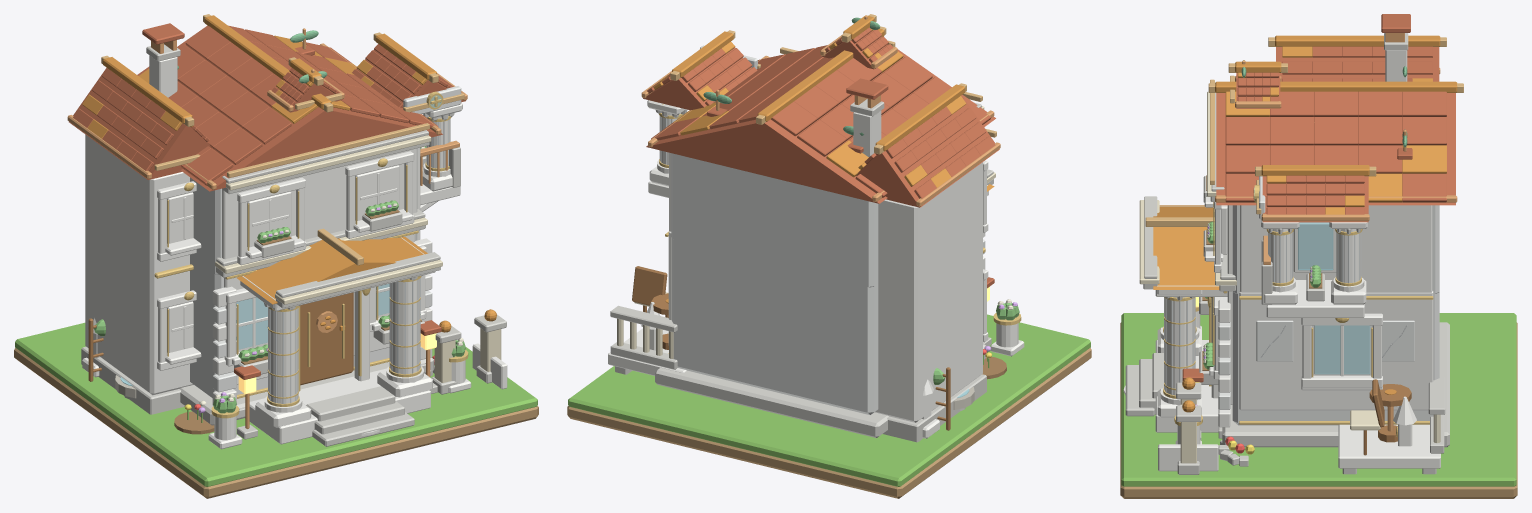
Rendered from villa_l05_active_LOD0.glb.
3 views of the same model, side by side, from view 1: azimuth 30°, elevation 25°; view 2: azimuth 150°, elevation 25°; view 3: azimuth 270°, elevation 25° (orthographic). The views are drawn at different scales.
Visible parts, largest first — view 1: villa_l05_active_left_pavilion_shell, villa_grass_tile, villa_earth_tile, villa_l05_active_full_upper_gable_roof, villa_l05_active_wide_portico_roof_gable_roof, villa_l05_active_upper_front_cladding, villa_l01_active_v2_entry_door, villa_l01_active_v2_marble_core, villa_l05_active_wide_porch, villa_l05_active_left_pavilion_roof_gable_roof, villa_l05_active_wide_column_-1_shaft, villa_l05_active_wide_column_1_shaft (+49 smaller); view 2: villa_l01_active_v2_marble_core, villa_grass_tile, villa_l05_active_left_pavilion_shell, villa_l05_active_full_upper_shell, villa_l05_active_full_upper_gable_roof, villa_earth_tile, villa_l01_active_v2_base_stone_block_low_medium_foundation, villa_l05_active_left_pavilion_roof_gable_roof, villa_l05_active_left_pavilion_foundation, villa_l05_active_balcony_gable_gable_roof, villa_l05_active_full_upper_gold_ridge, villa_l05_active_left_pavilion_roof_gold_ridge (+18 smaller); view 3: villa_grass_tile, villa_l01_active_v2_right_marble_cladding, villa_l05_active_upper_right_cladding, villa_earth_tile, villa_l05_active_wide_portico_roof_gable_roof, villa_l01_active_v2_base_stone_block_low_medium_foundation, villa_l05_active_terrace_deck, villa_l01_active_v2_marble_core, villa_l01_active_v2_side_window_frame, villa_l01_active_v2_side_window_glass, villa_l05_active_full_upper_gable_roof, villa_l05_active_full_upper_gold_ridge (+58 smaller).
Boxes of the visible parts, x1,y1,x2,y2 form: villa_l05_active_left_pavilion_shell: [85, 134, 193, 395]; villa_grass_tile: [15, 322, 537, 486]; villa_earth_tile: [14, 348, 538, 498]; villa_l05_active_full_upper_gable_roof: [137, 25, 442, 191]; villa_l05_active_wide_portico_roof_gable_roof: [237, 236, 427, 304]; villa_l05_active_upper_front_cladding: [222, 148, 417, 259]; villa_l01_active_v2_entry_door: [300, 292, 353, 385]; villa_l01_active_v2_marble_core: [190, 233, 417, 397]; villa_l05_active_wide_porch: [249, 368, 430, 444]; villa_l05_active_left_pavilion_roof_gable_roof: [69, 67, 211, 179]; villa_l05_active_wide_column_-1_shaft: [268, 308, 298, 403]; villa_l05_active_wide_column_1_shaft: [390, 278, 419, 374]; villa_l01_active_v2_marble_core: [672, 236, 878, 414]; villa_grass_tile: [568, 314, 1090, 486]; villa_l05_active_left_pavilion_shell: [875, 162, 982, 422]; villa_l05_active_full_upper_shell: [671, 153, 878, 287]; villa_l05_active_full_upper_gable_roof: [646, 49, 995, 203]; villa_earth_tile: [567, 348, 1091, 498]; villa_l01_active_v2_base_stone_block_low_medium_foundation: [655, 344, 986, 437]; villa_l05_active_left_pavilion_roof_gable_roof: [856, 95, 999, 207]; villa_l05_active_left_pavilion_foundation: [883, 374, 986, 442]; villa_l05_active_balcony_gable_gable_roof: [643, 47, 751, 110]; villa_l05_active_full_upper_gold_ridge: [757, 28, 884, 121]; villa_l05_active_left_pavilion_roof_gold_ridge: [875, 84, 965, 151]; villa_grass_tile: [1121, 313, 1516, 486]; villa_l01_active_v2_right_marble_cladding: [1239, 291, 1433, 410]; villa_l05_active_upper_right_cladding: [1240, 205, 1432, 292]; villa_earth_tile: [1120, 322, 1517, 498]; villa_l05_active_wide_portico_roof_gable_roof: [1153, 205, 1219, 289]; villa_l01_active_v2_base_stone_block_low_medium_foundation: [1222, 322, 1449, 447]; villa_l05_active_terrace_deck: [1338, 424, 1440, 468]; villa_l01_active_v2_marble_core: [1232, 290, 1439, 425]; villa_l01_active_v2_side_window_frame: [1312, 325, 1372, 375]; villa_l01_active_v2_side_window_glass: [1314, 325, 1370, 374]; villa_l05_active_full_upper_gable_roof: [1216, 93, 1455, 205]; villa_l05_active_full_upper_gold_ridge: [1215, 81, 1457, 92].
Bounding box in the file's own units: 3.6 × 3.58 × 3.6.
